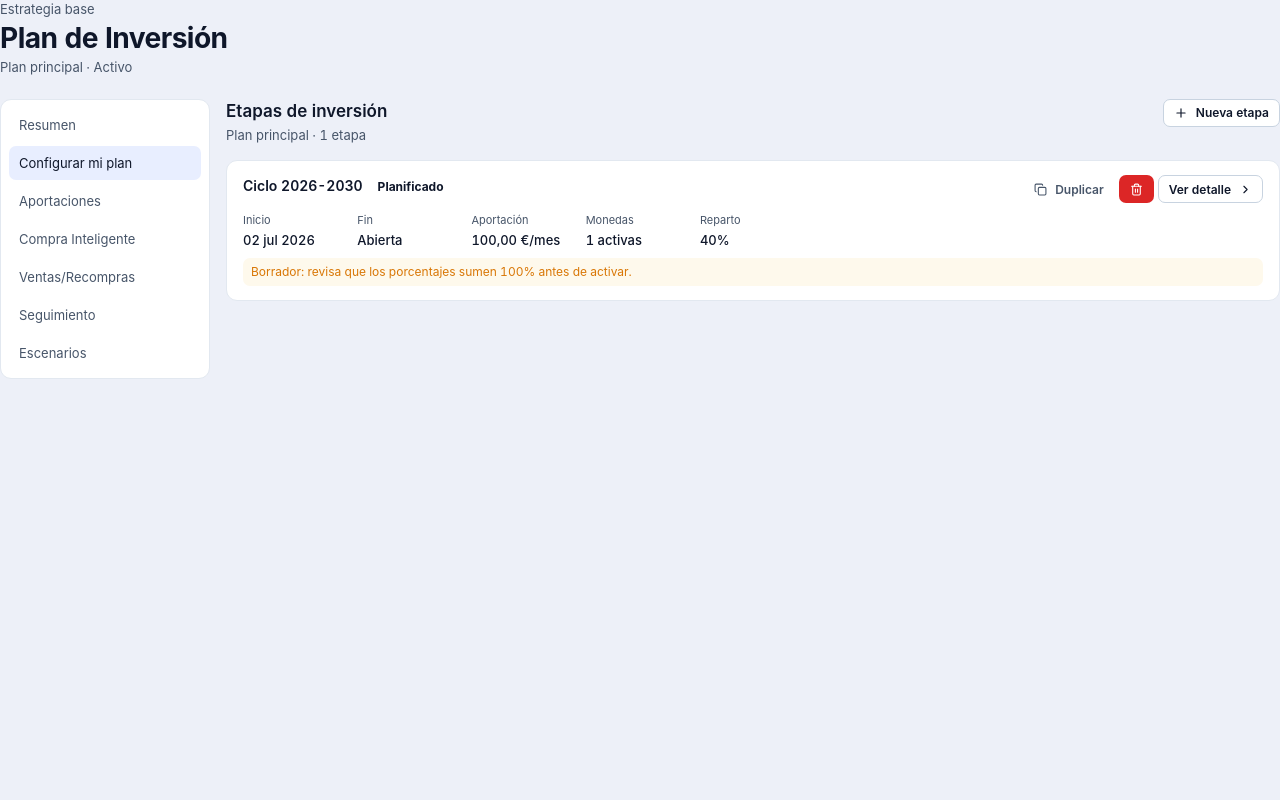
Scenario: PlanEtapaDetalle — acceso por URL › navega al detalle desde la lista al pulsar 'Ver detalle'
Check: the text "Ciclo 2026-2030" is shown, box [243, 176, 363, 197]
Click the button "Ver detalle".
click(1210, 190)  # box [1158, 176, 1263, 204]
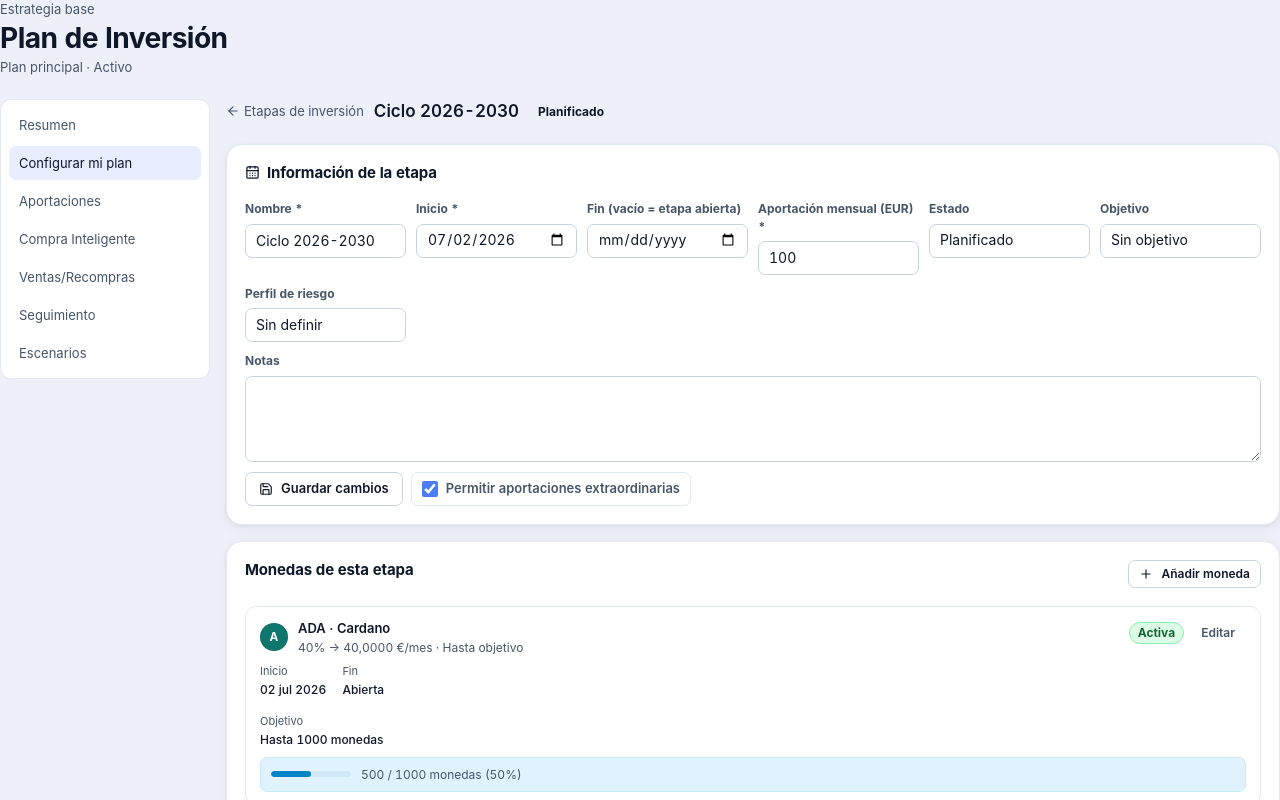
Check: the heading "Información de la etapa" is shown, box [245, 163, 437, 182]
